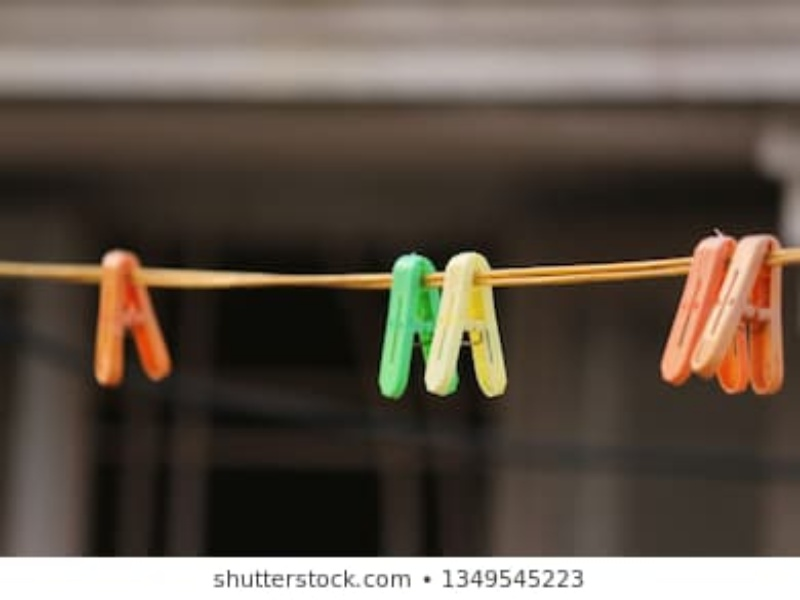plastic-peg: (655, 226, 749, 396), (693, 231, 784, 393), (371, 247, 461, 403), (422, 248, 509, 398), (89, 247, 174, 388)
